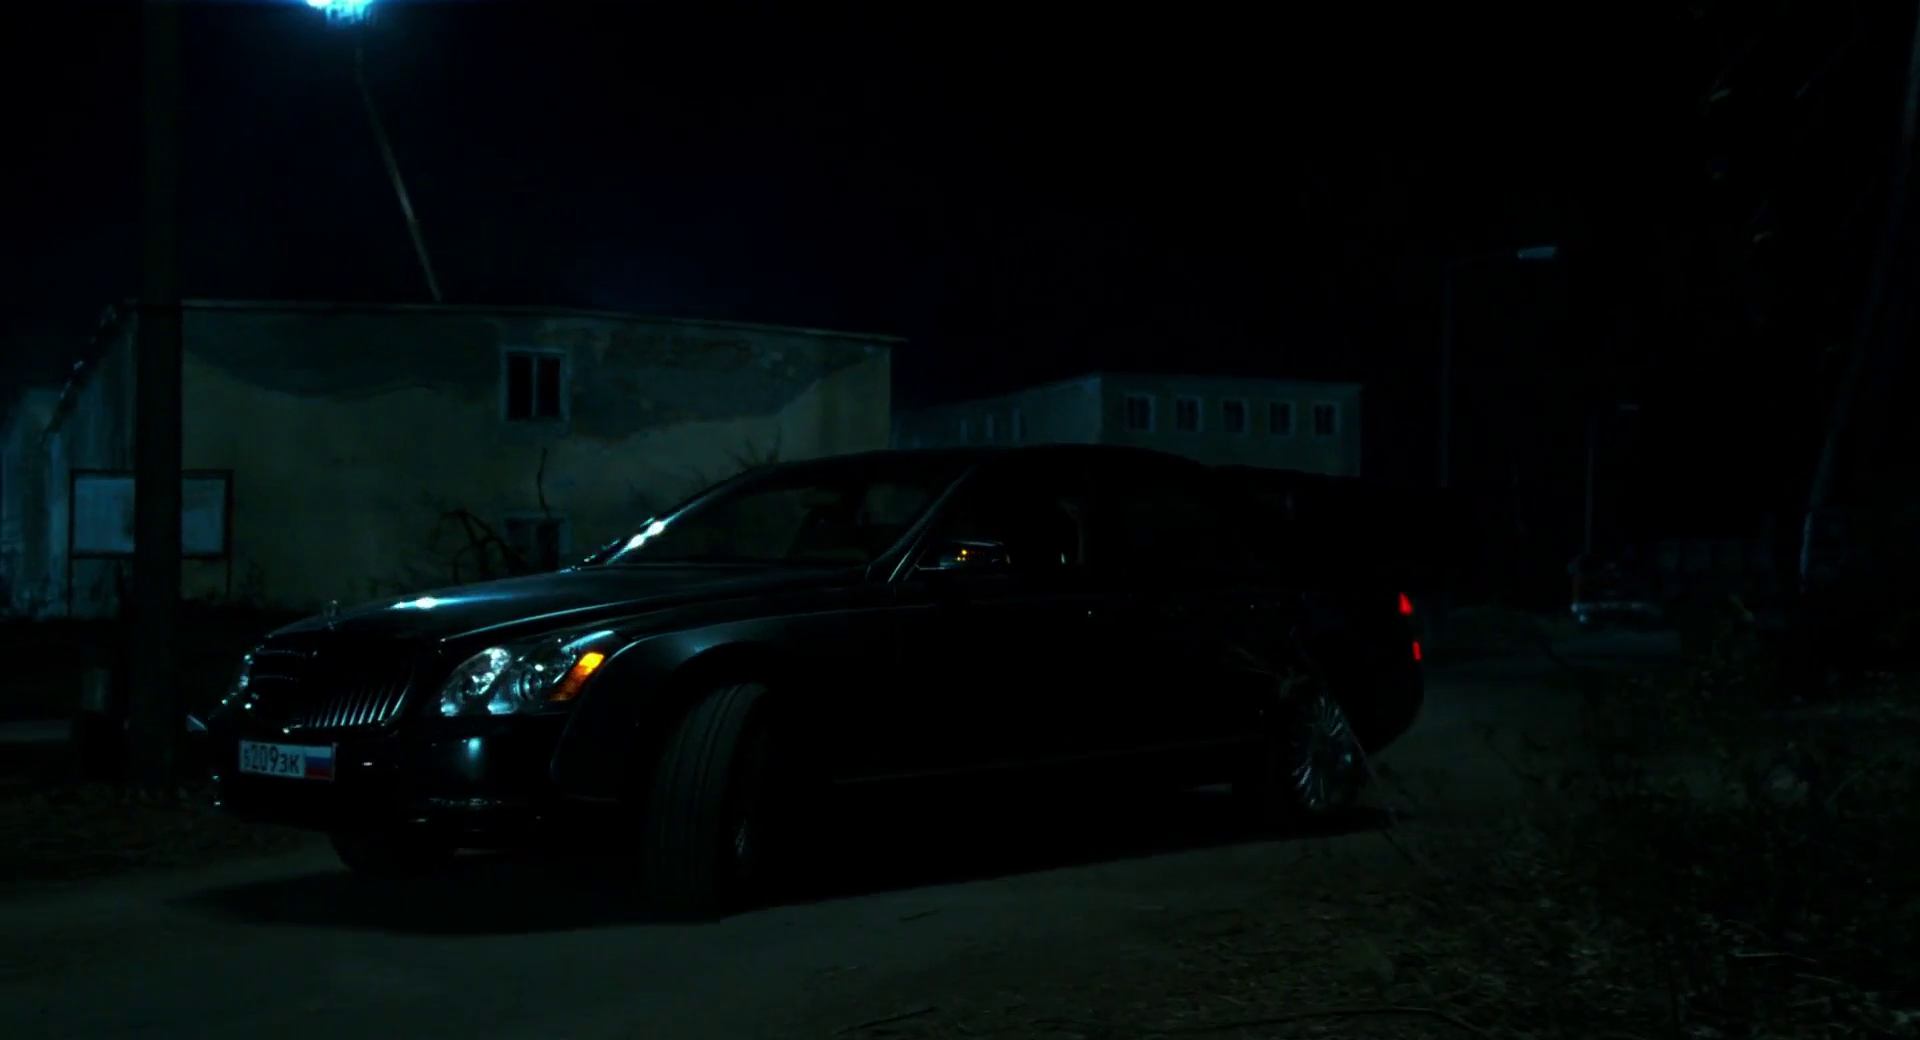car: (177, 420, 1446, 947)
